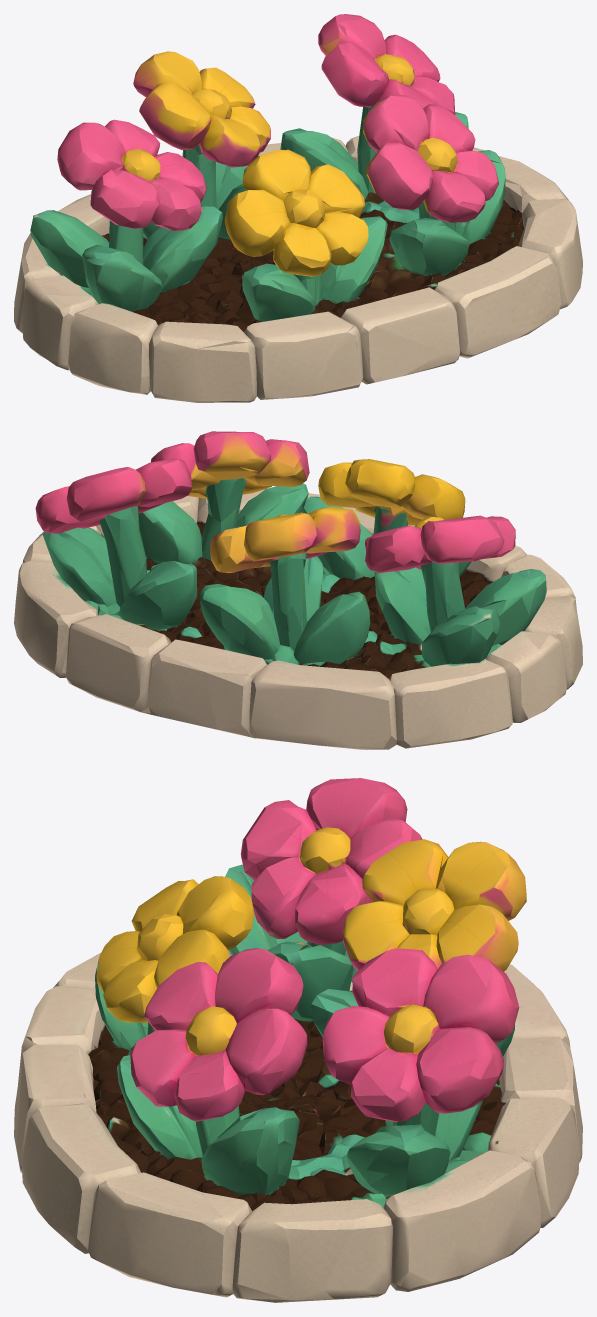
3 views of the same model, one above another, from view 1: azimuth 30°, elevation 25°; view 2: azimuth 150°, elevation 25°; view 3: azimuth 270°, elevation 25° (orthographic). The views are drawn at different scales.
Visible parts, largest first — view 1: island-flowerbed-v1-1; view 2: island-flowerbed-v1-1; view 3: island-flowerbed-v1-1.
Part boxes in pixels (x1,y1,x2,y2): island-flowerbed-v1-1: (14,14,582,402); island-flowerbed-v1-1: (14,431,582,749); island-flowerbed-v1-1: (14,778,582,1302).
Bounding box in the file's own units: 1.74 × 0.65 × 1.3.
Materials: 1 (1 with a texture image).
